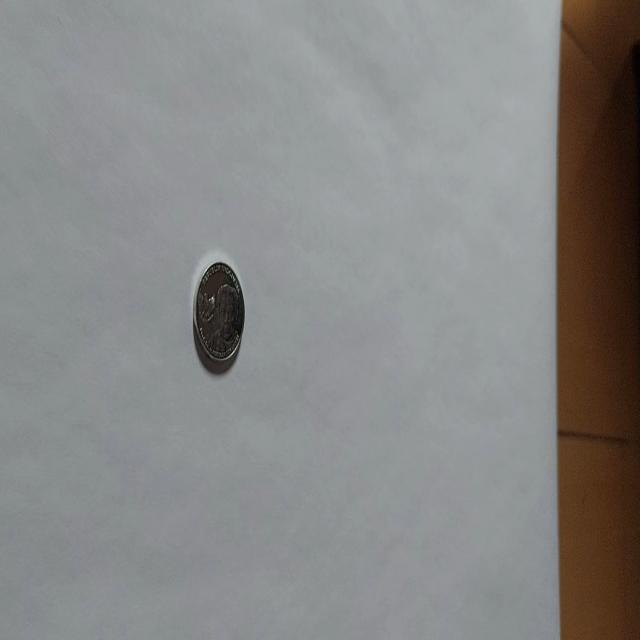seratus rupiah: (191, 258, 245, 372)
